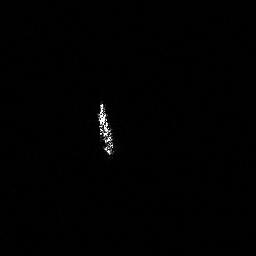ship: (93, 100, 121, 159)
